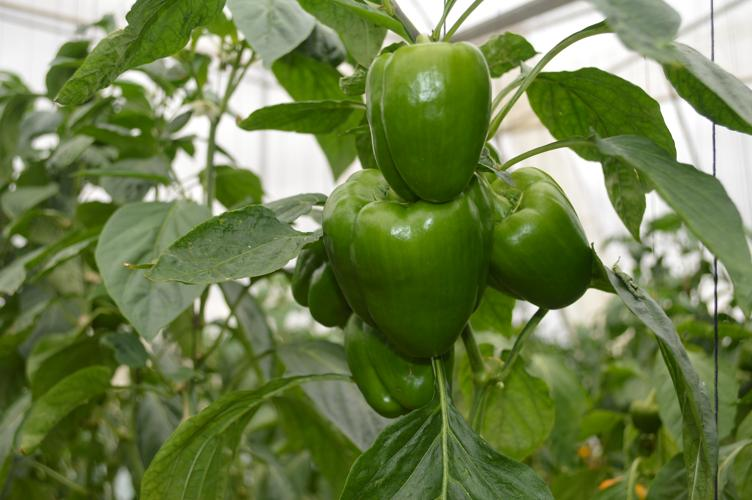BellPepper: (323, 159, 481, 358), (359, 35, 484, 203), (473, 163, 596, 315), (330, 314, 437, 421), (286, 231, 364, 332)
